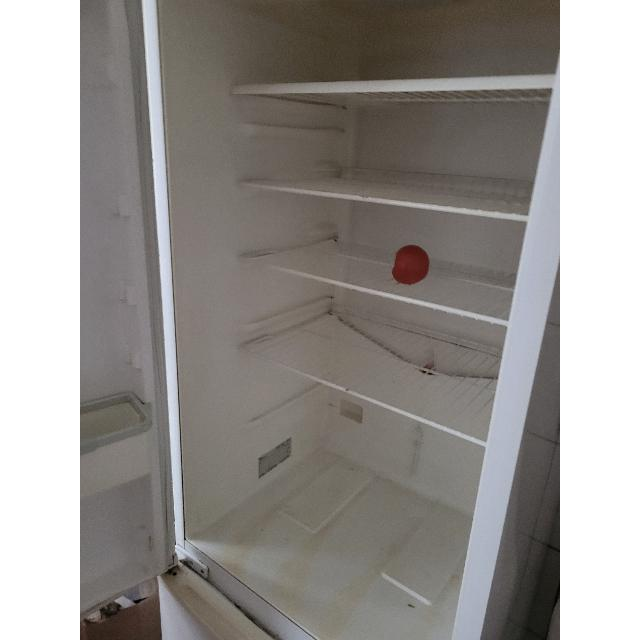tomato: (390, 242, 432, 288)
